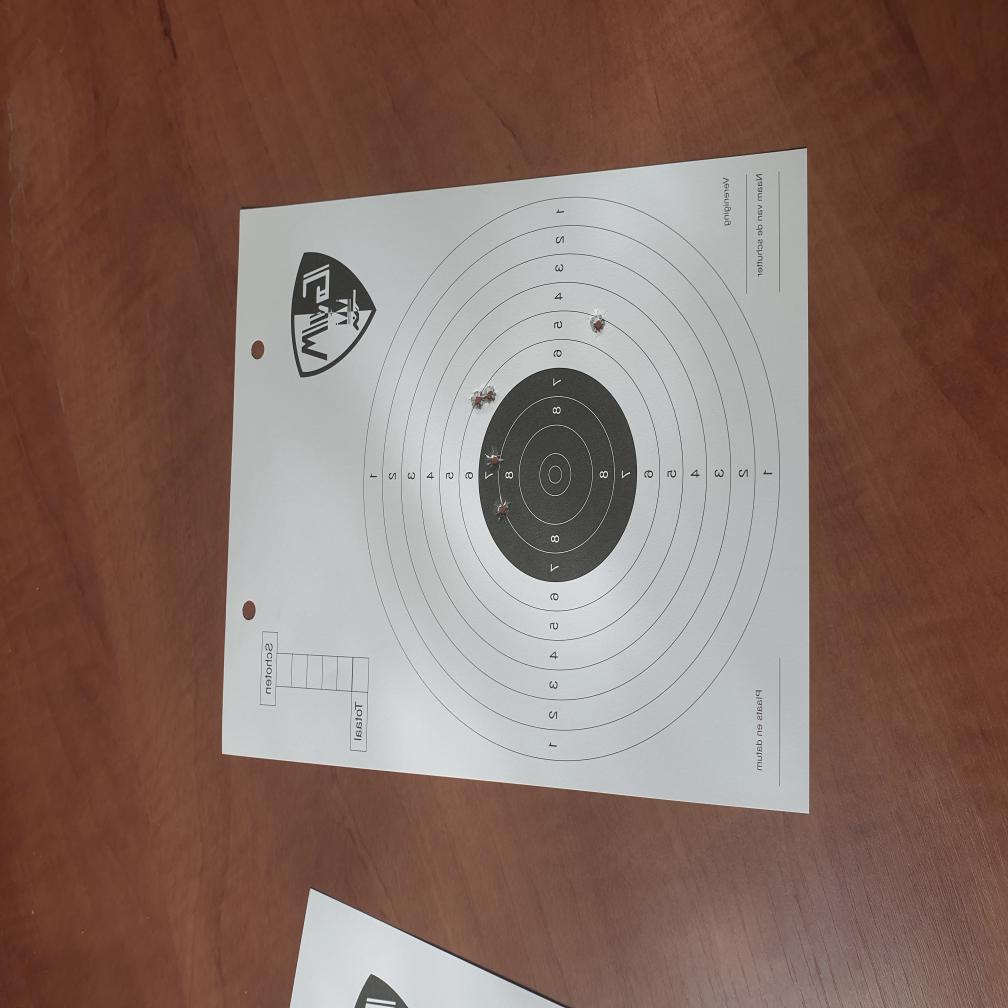5: (588, 308, 608, 340)
6: (483, 380, 497, 406), (470, 387, 483, 415)
8: (484, 446, 504, 474), (494, 497, 511, 525)
Target: (362, 193, 781, 763)
black_contour: (478, 370, 636, 583)
